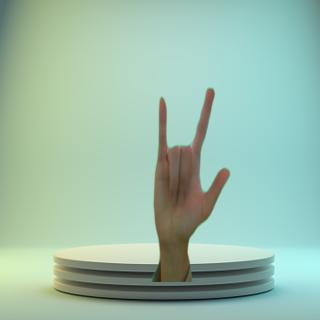ILY: (150, 86, 232, 250)
